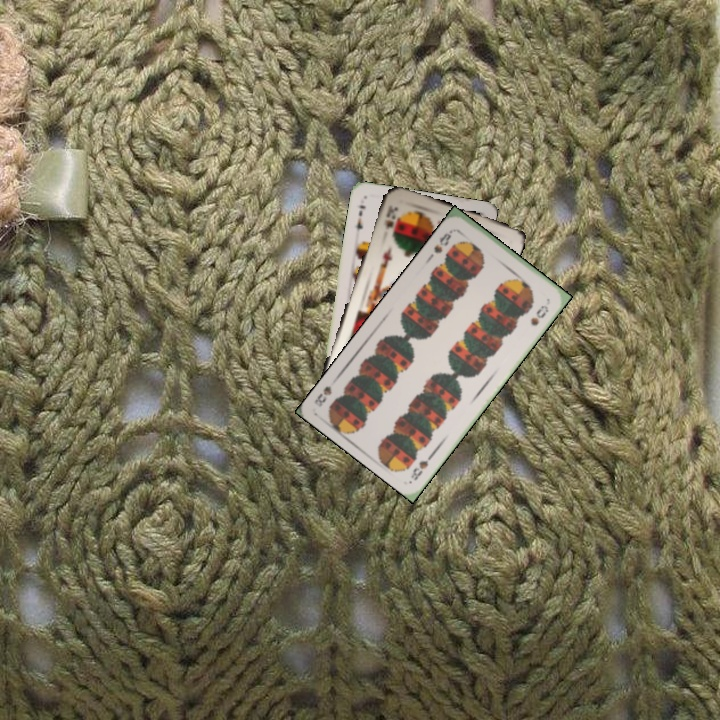E7: (352, 201, 368, 236)
S8: (406, 447, 438, 483), (430, 225, 461, 256)
SK: (381, 201, 401, 233)
